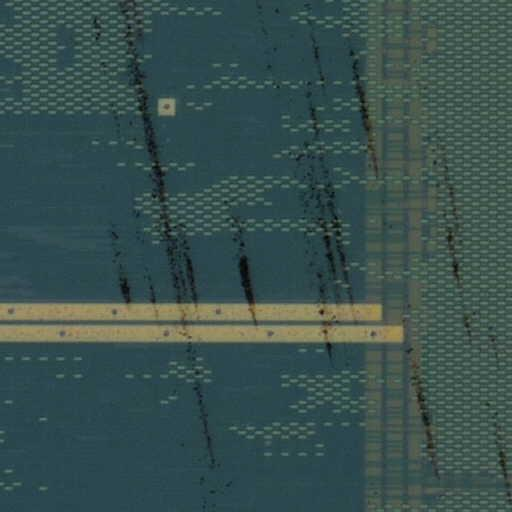SCRATCH: (81, 1, 512, 512)
